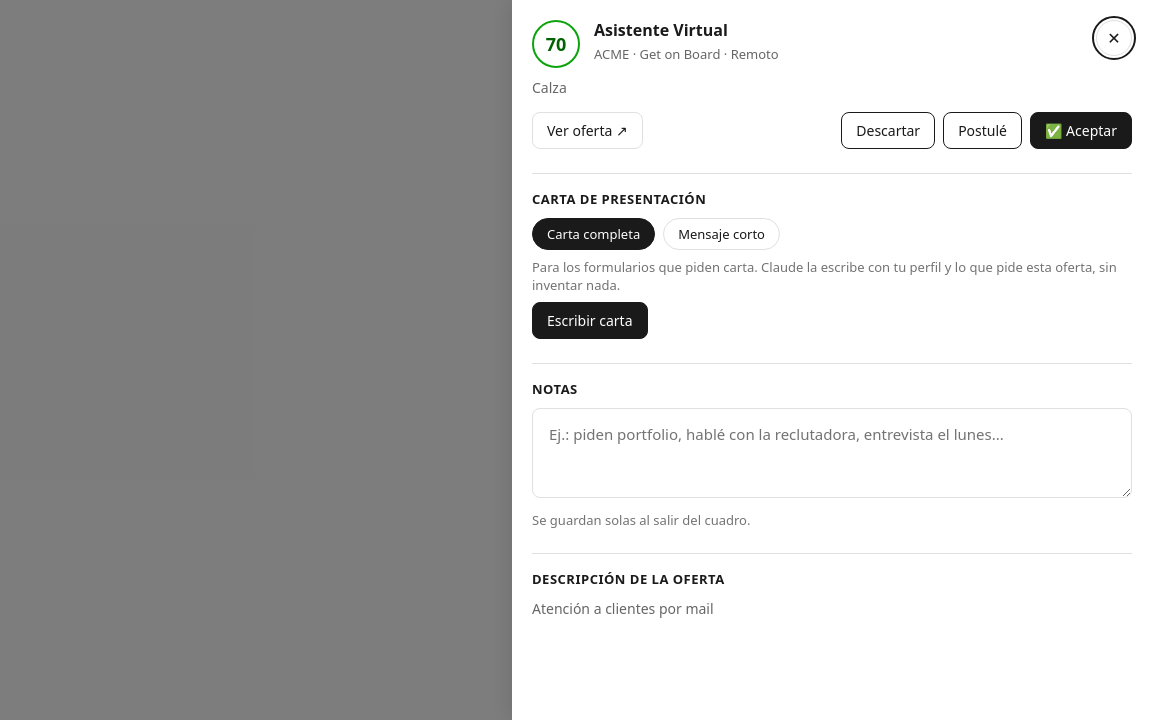
Scenario: DetalleOferta › si la API falla, muestra el motivo
This screenshot has width=1152, height=720.
Click the button "Escribir carta".
click(590, 321)  # box [532,302,648,339]
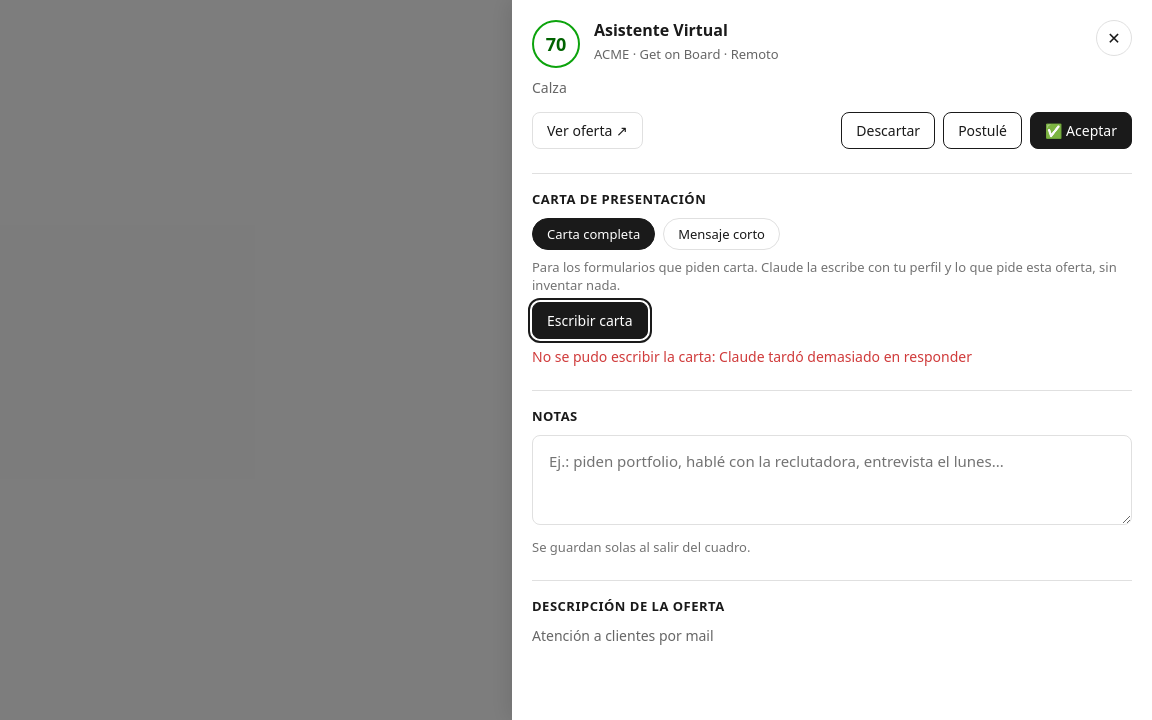
Result: the message "No se pudo escribir la carta: Claude tardó demasiado en responder" is shown at [532,347,972,366]
